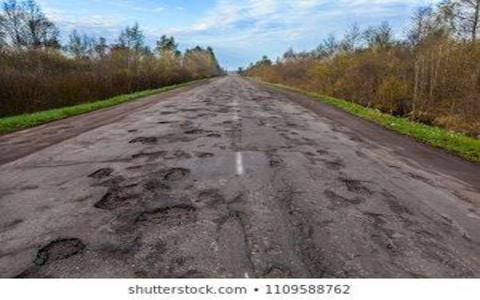patchy roads: (248, 115, 444, 271), (38, 124, 224, 270)
